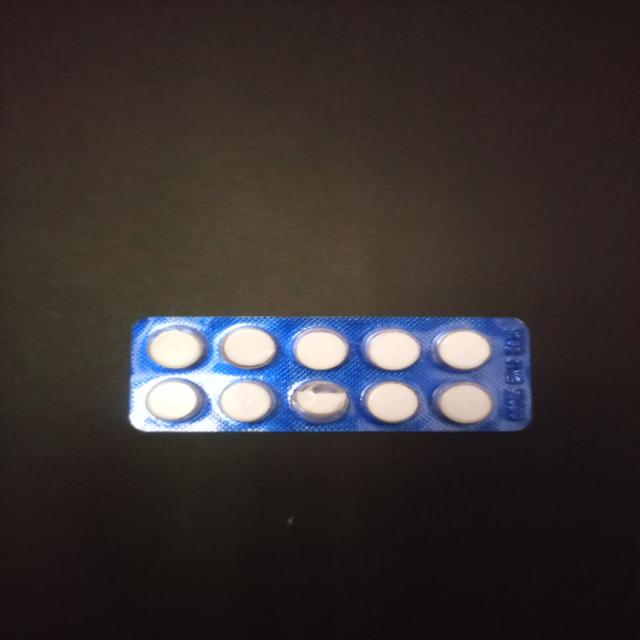defect: (288, 377, 350, 425)
